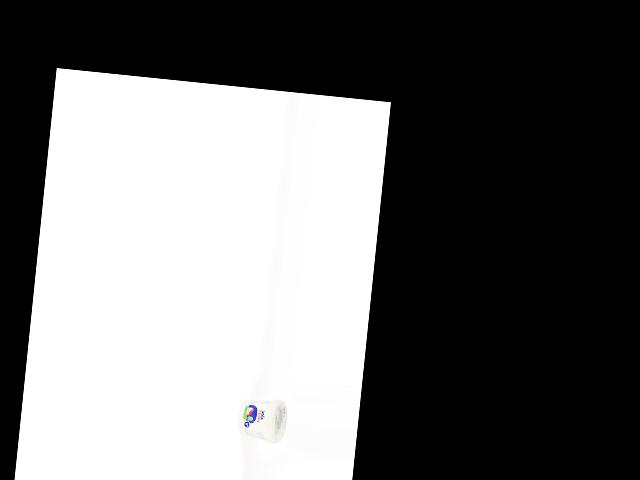cotage: (234, 393, 288, 445)
